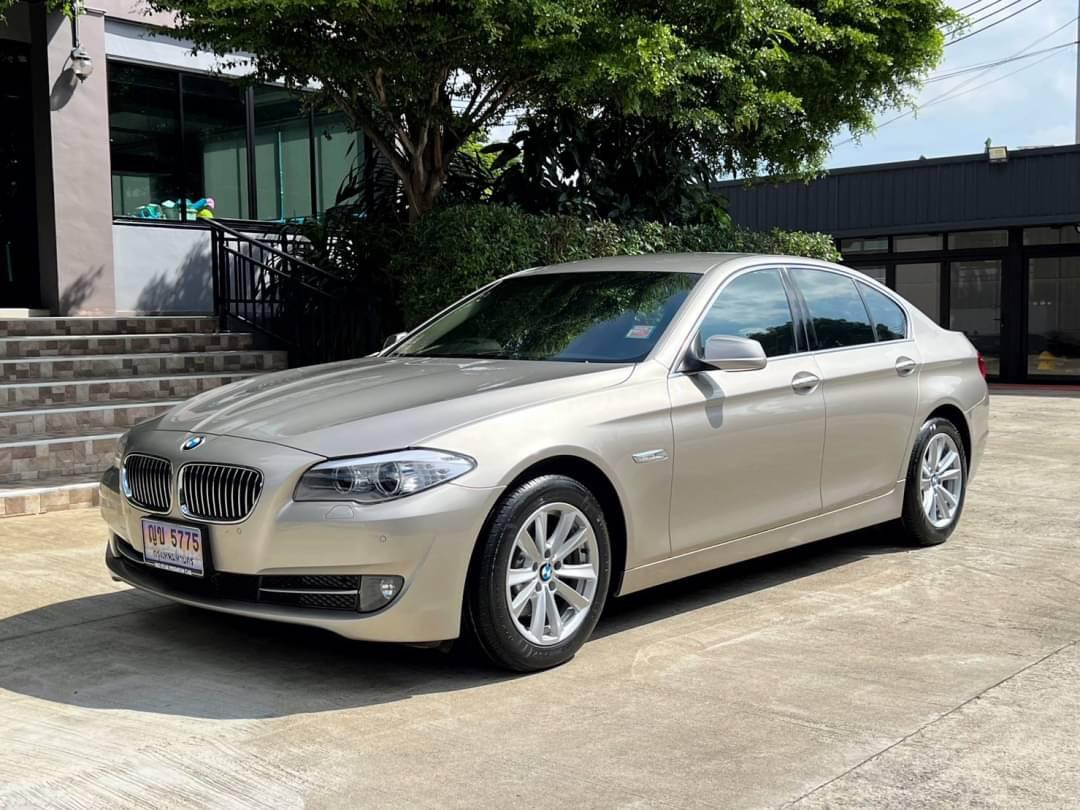license-plate: (142, 512, 208, 579)
